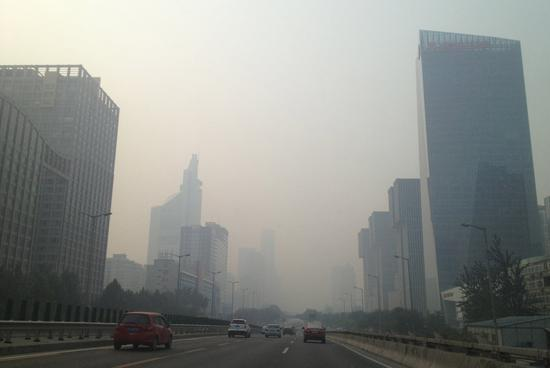car: (112, 310, 175, 351), (302, 321, 327, 345), (228, 316, 252, 338), (270, 323, 286, 338), (260, 322, 273, 334), (282, 325, 296, 336)
